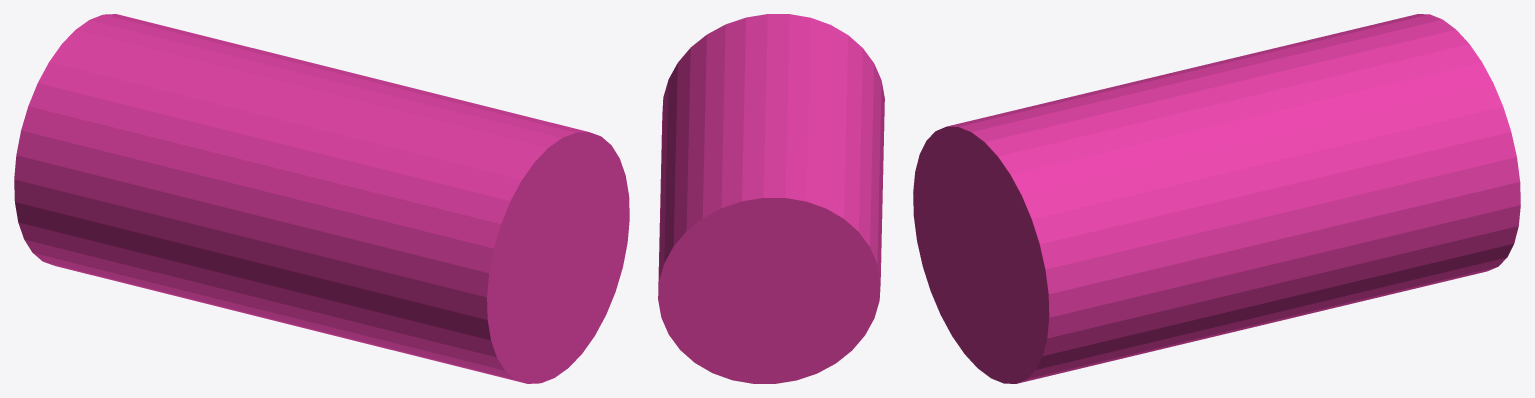
The model's file is first.glb.
3 views of the same model, side by side, from view 1: azimuth 30°, elevation 25°; view 2: azimuth 150°, elevation 25°; view 3: azimuth 270°, elevation 25° (orthographic). The views are drawn at different scales.
Visible parts, largest first — view 1: Cylinder; view 2: Cylinder; view 3: Cylinder.
Boxes of the visible parts, x1,y1,x2,y2 form: Cylinder: (14,14,629,383); Cylinder: (658,14,884,383); Cylinder: (913,14,1520,383).
Size of the model in its own units: 1.96 by 0.9889 by 2.35.
